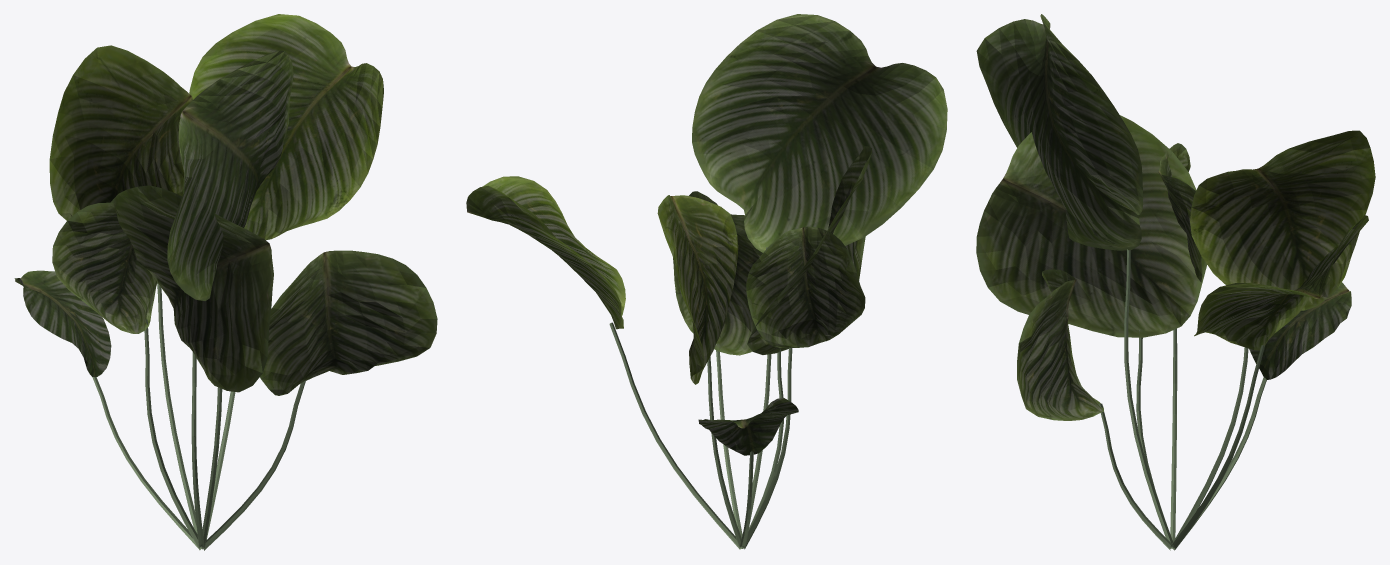
The model's file is leaf-3.glb.
3 renders of one model, left to right at view 1: azimuth 30°, elevation 25°; view 2: azimuth 150°, elevation 25°; view 3: azimuth 270°, elevation 25°, orthographic. The views are drawn at different scales.
Bounding box in the file's own units: 0.5536 × 0.7693 × 0.5332.
2 materials, 1 textured.
